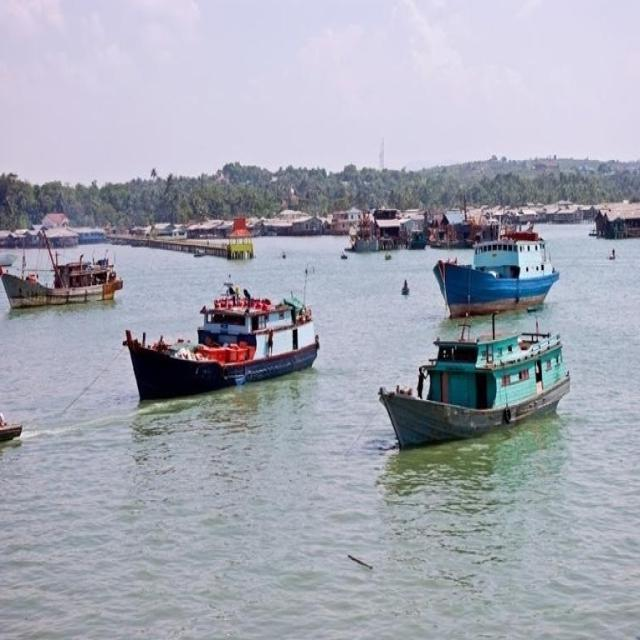boat: (374, 329, 578, 455), (119, 292, 327, 406), (430, 232, 562, 324), (0, 256, 124, 316)
